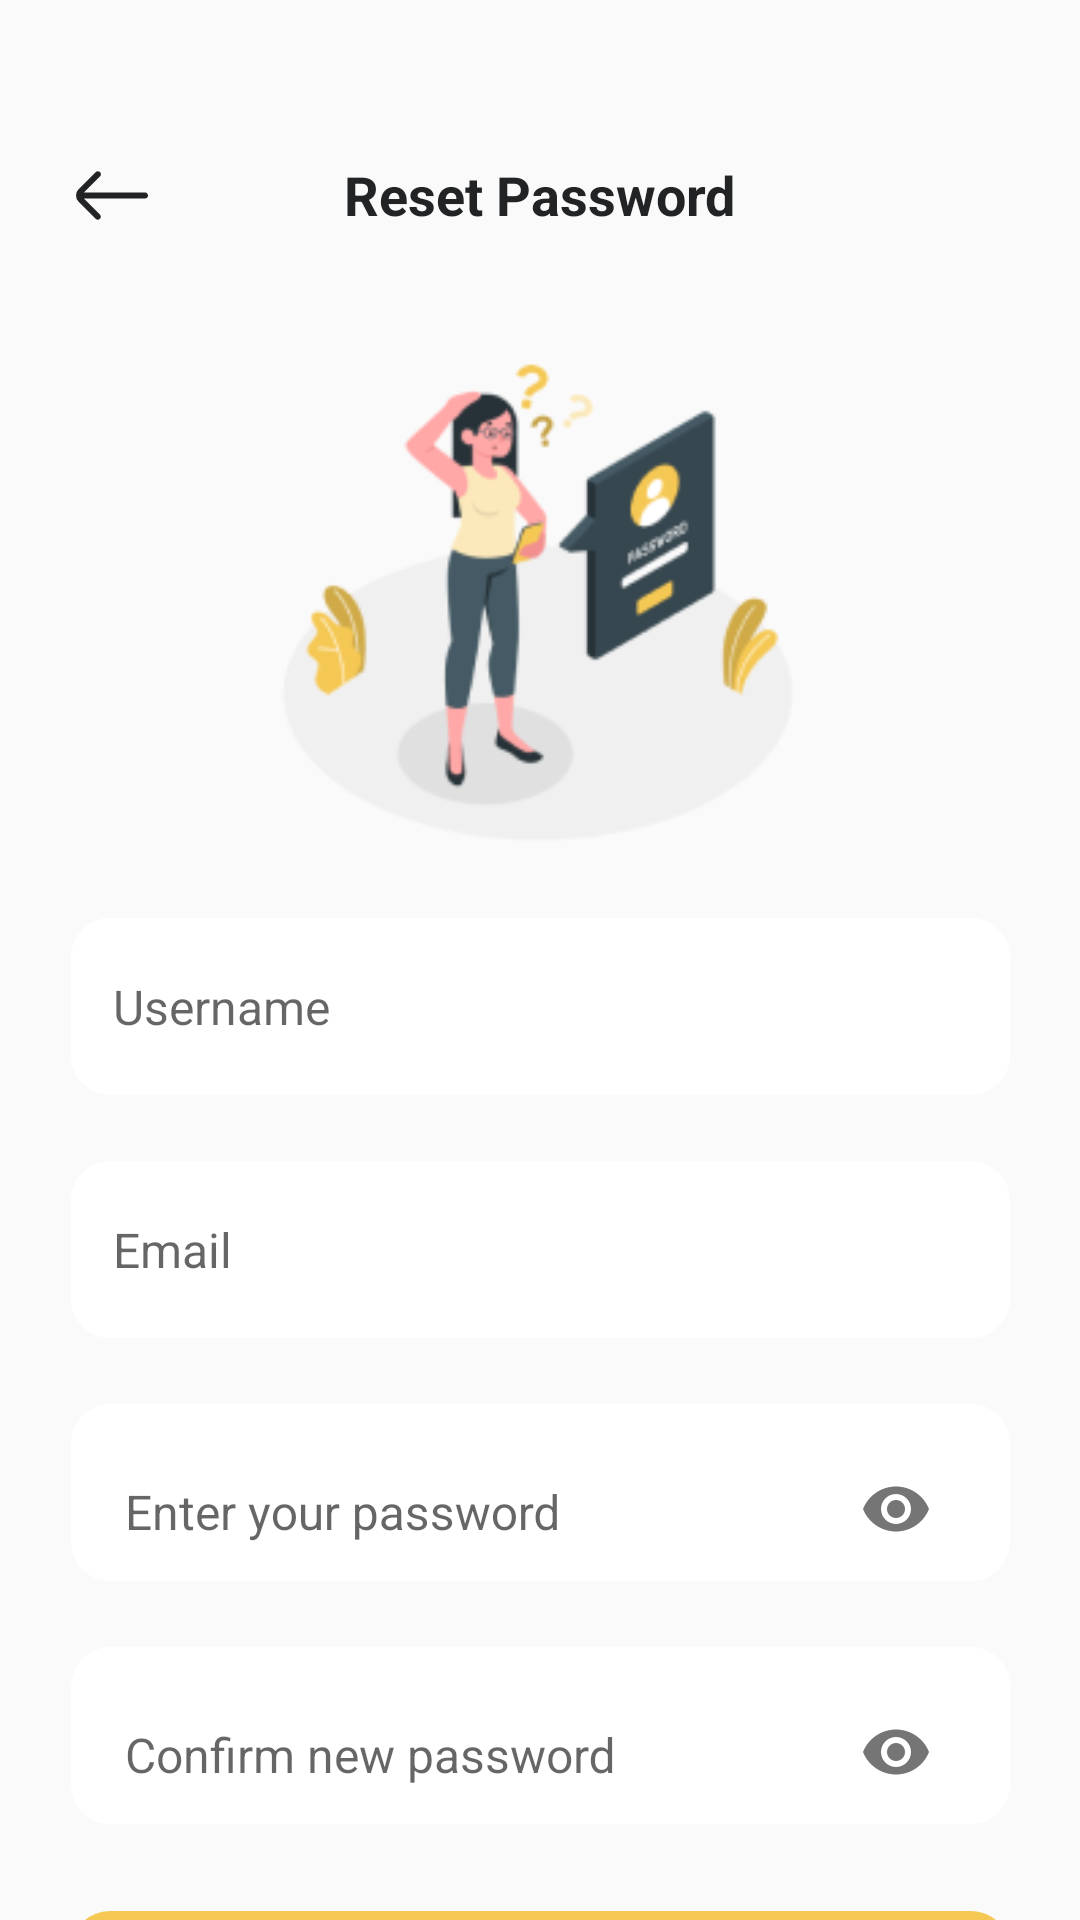

Point at icon controls on the screen. Image size 1080px×1920px, points as (x=x, y=y).
return: (x=112, y=195)
